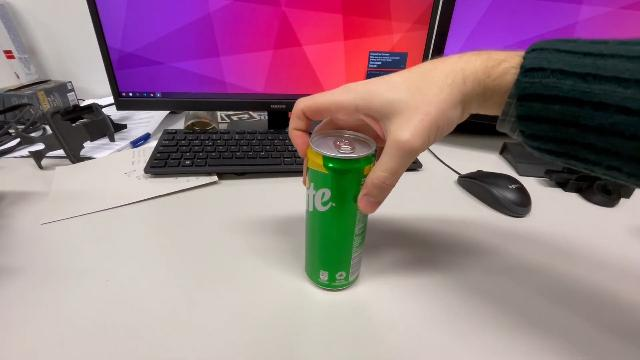Sprite: (300, 127, 380, 295)
